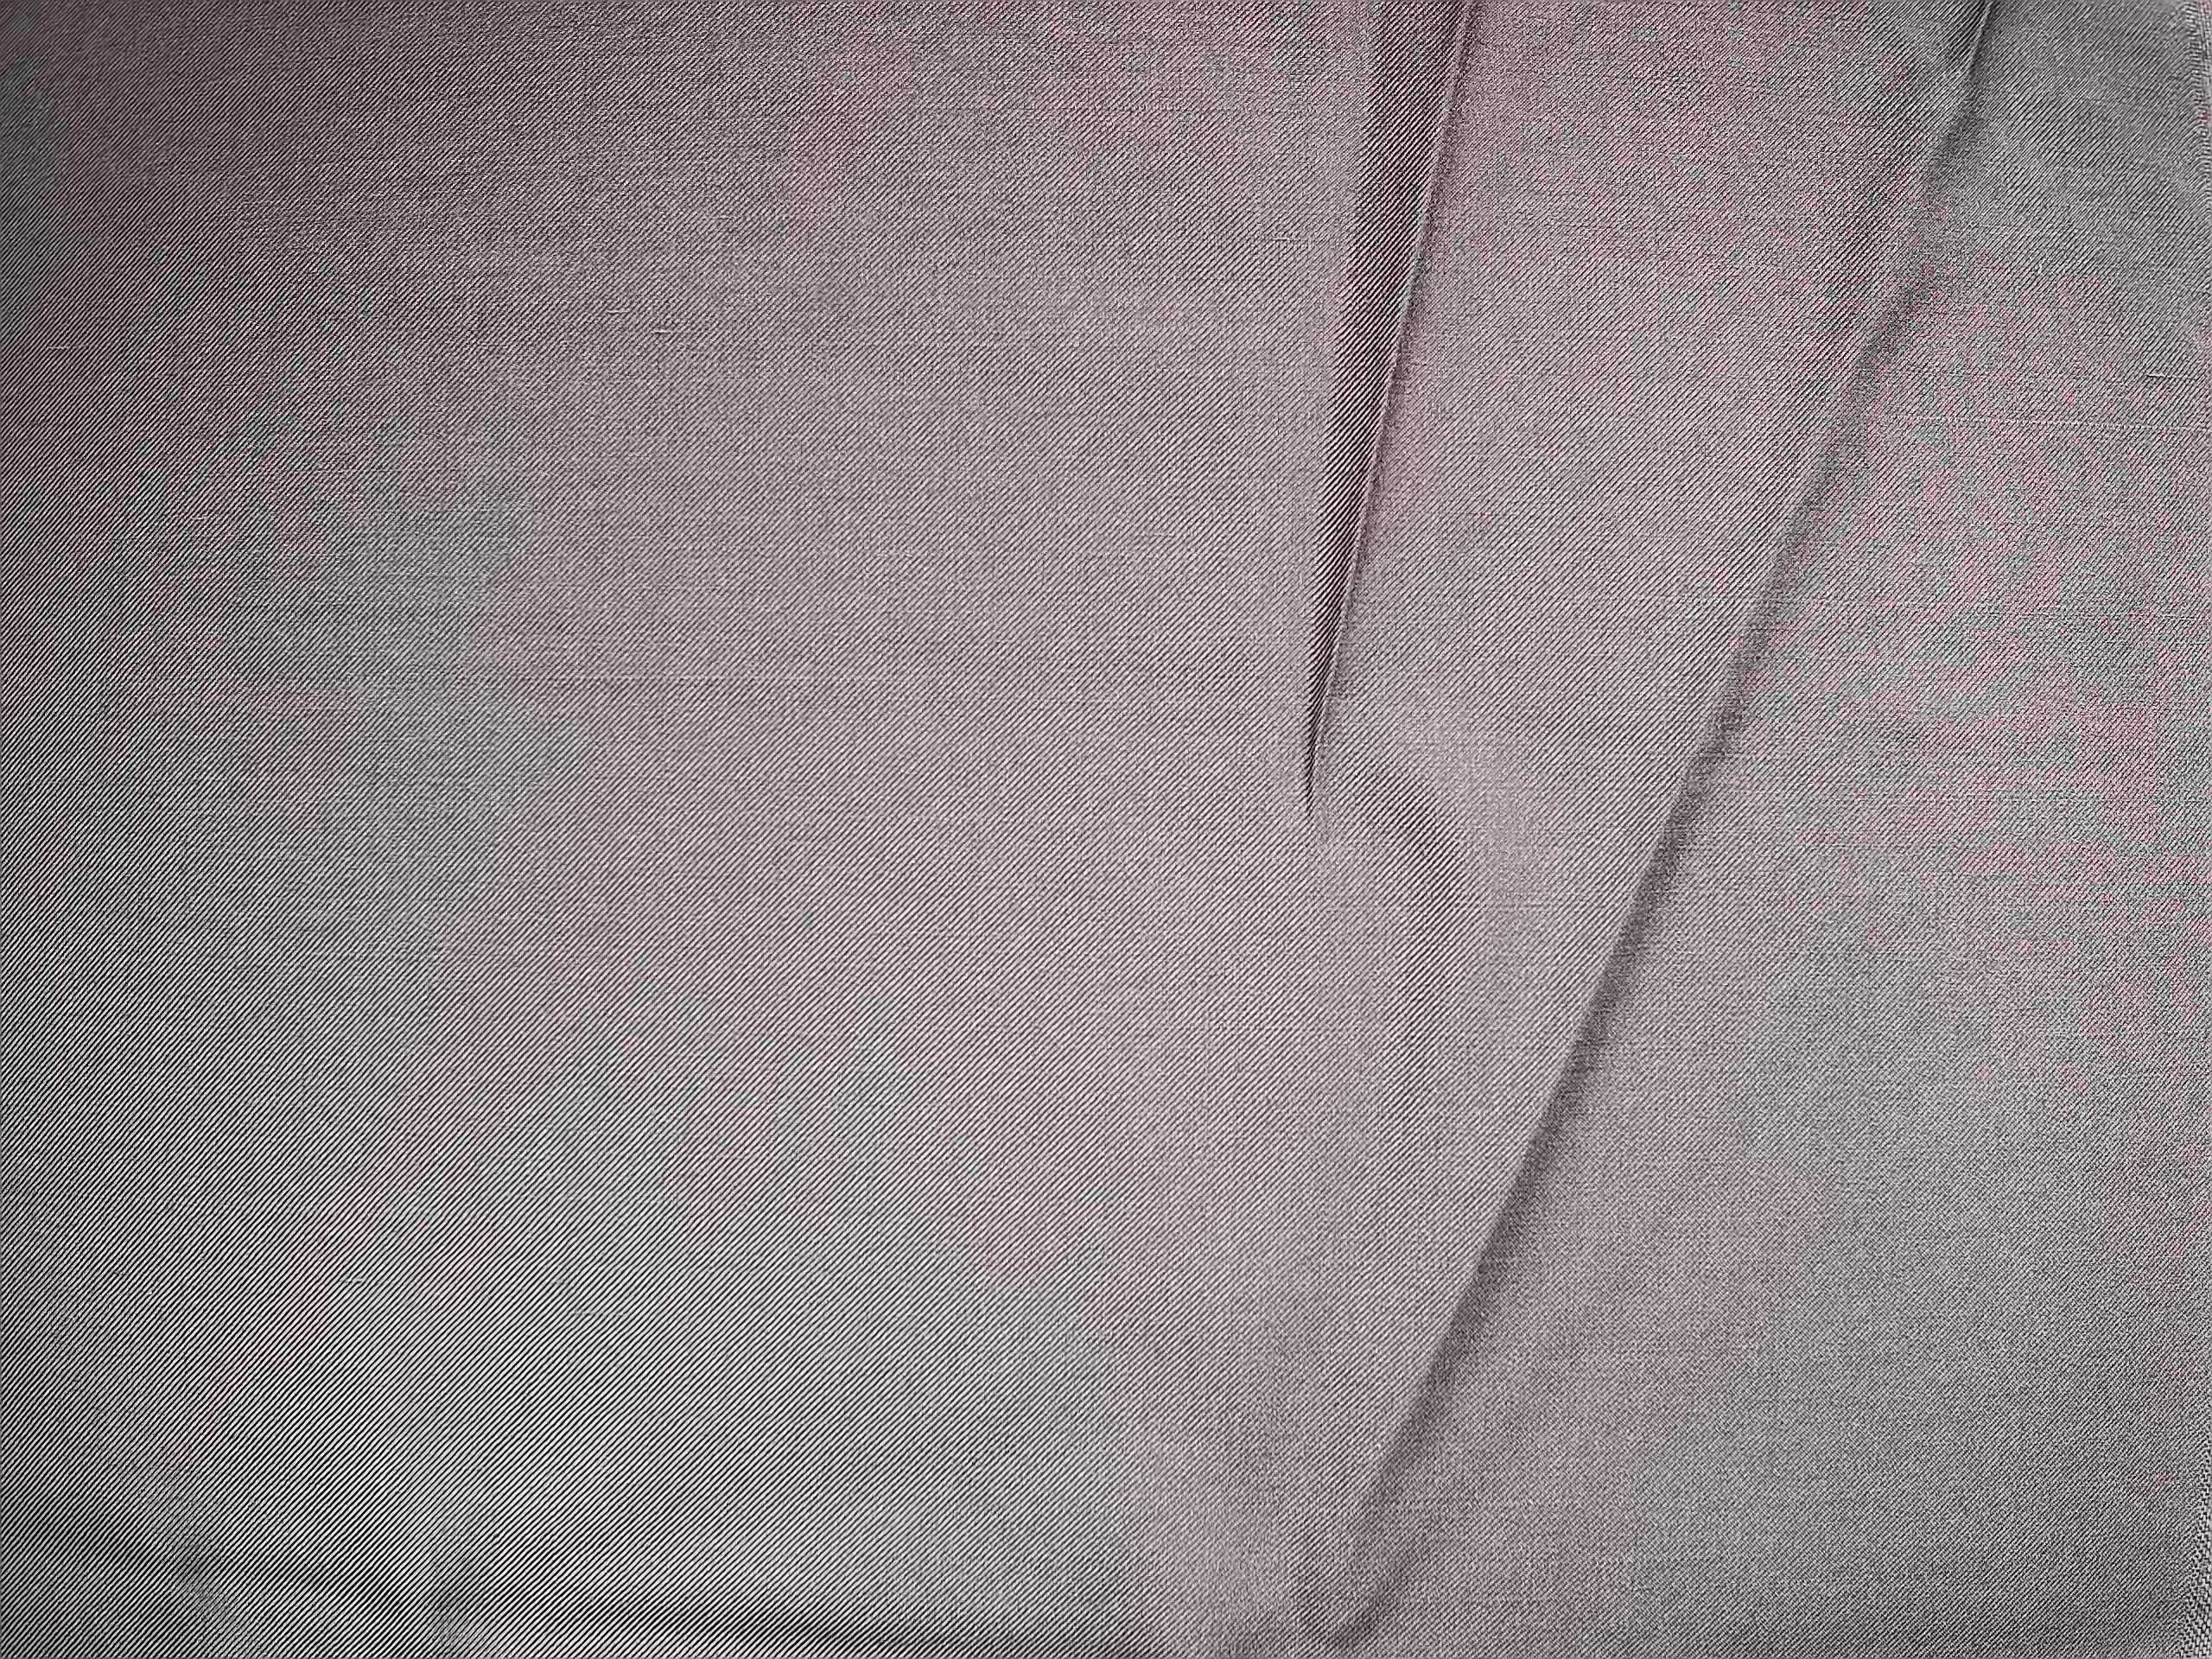others: (158, 657, 958, 695), (1900, 411, 2205, 443), (2141, 364, 2202, 389)
